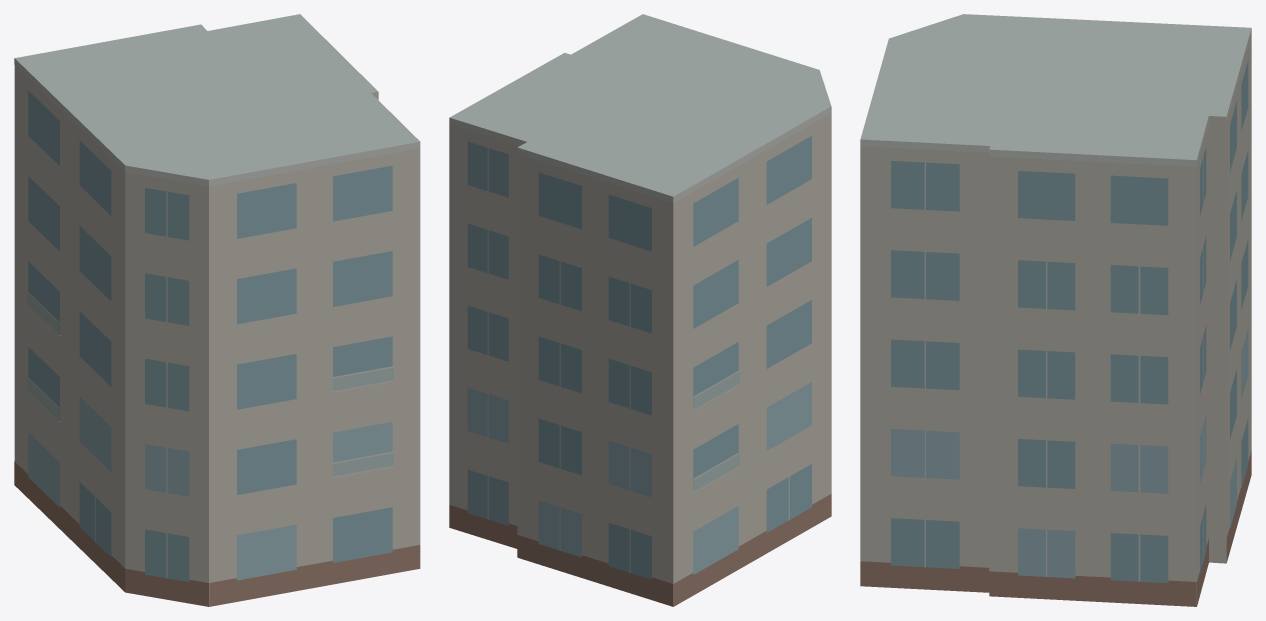
File: survey-upis-32567176.glb
3 views of the same model, side by side, from view 1: azimuth 30°, elevation 25°; view 2: azimuth 150°, elevation 25°; view 3: azimuth 270°, elevation 25° (orthographic). The views are drawn at different scales.
Parts seen in each view (by area): view 1: survey-upis-32567176.tmp; view 2: survey-upis-32567176.tmp; view 3: survey-upis-32567176.tmp.
Boxes of the visible parts, left/top/right/bottom form: survey-upis-32567176.tmp: left=14, top=14, right=420, bottom=606; survey-upis-32567176.tmp: left=449, top=14, right=831, bottom=606; survey-upis-32567176.tmp: left=860, top=14, right=1251, bottom=606.
Bounding box in the file's own units: 11.13 × 15.85 × 12.59.
